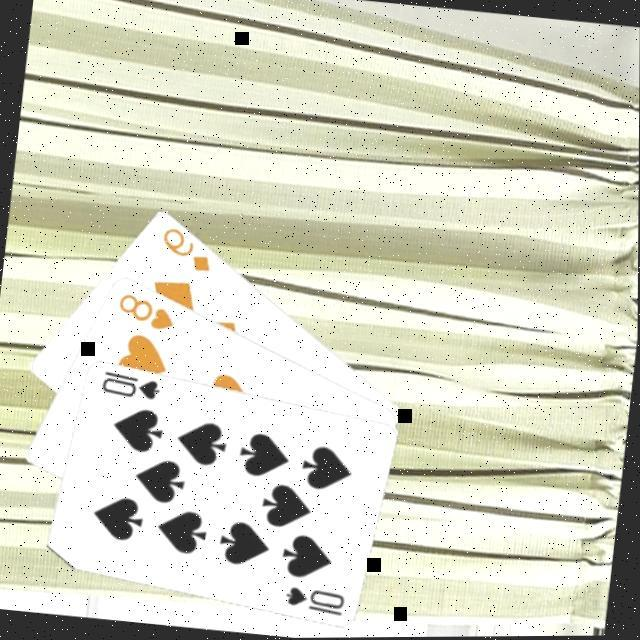10S: (281, 583, 350, 621), (97, 367, 165, 405)
8H: (113, 289, 181, 335)
9D: (155, 224, 218, 278)
